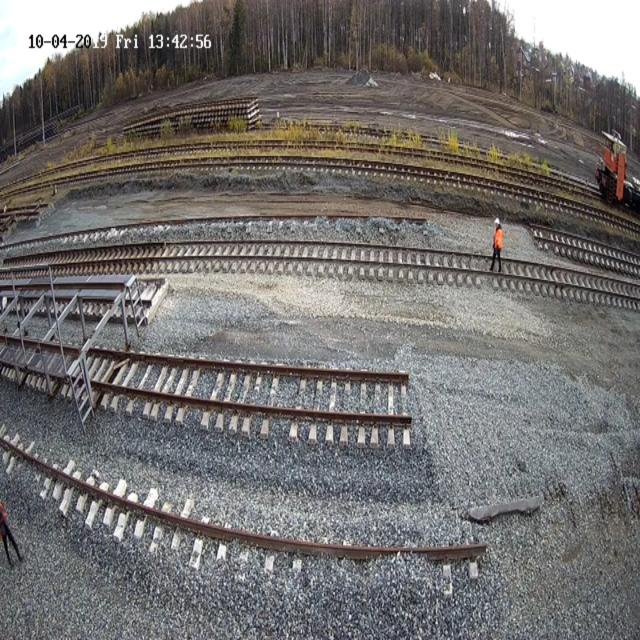Helmet: (494, 218, 500, 225)
Person: (488, 217, 502, 272)
